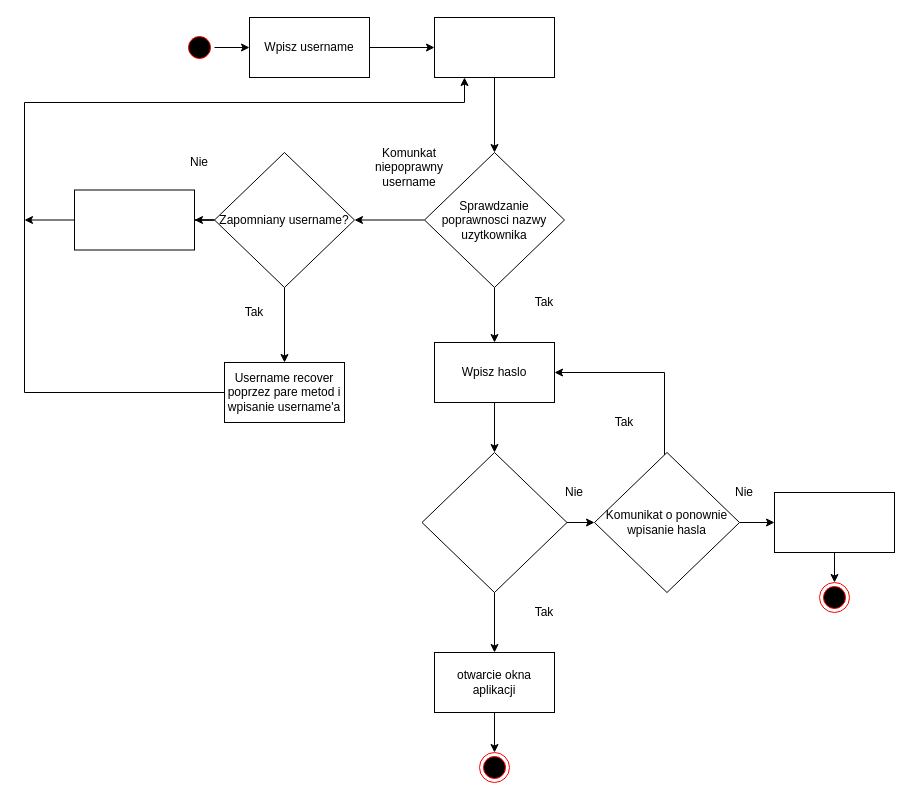
This 912x800 diagram has some shape labels left out. Each missing label, with the centre of its shape:
"Sprawdzanie poprawnosci hasla" belongs at (494,522).
"Weryfikacja nazwy uzytkownika" belongs at (494,47).
"Wpisanie username" belongs at (134,219).
"Wyjscie" belongs at (834,522).
